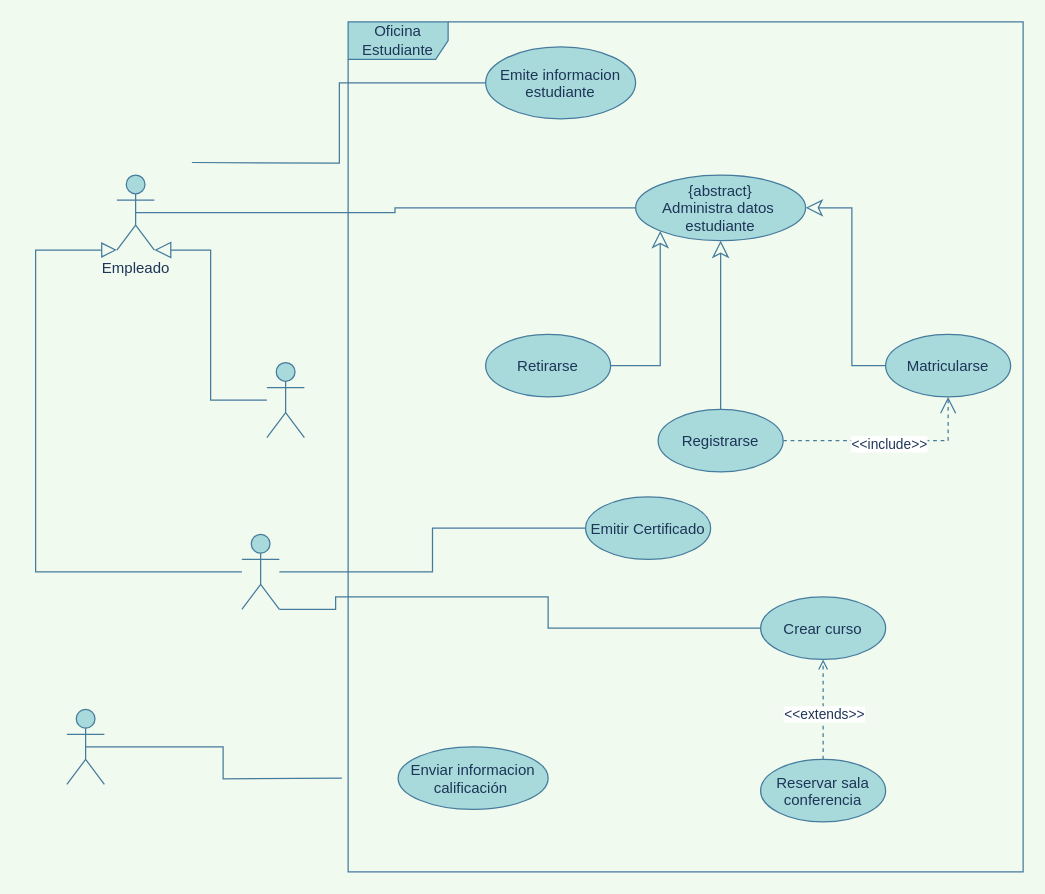
Some shapes in this 1045 by 894 pixel diagram are drawn without their labels. The shapes that lost their labels are listed below. From the top down, each one's centre as x and y in pixels, then its label:
At (285,399): "Empleado Adm".
At (260,571): "Empleado Serv".
At (85,746): "Profesor".
